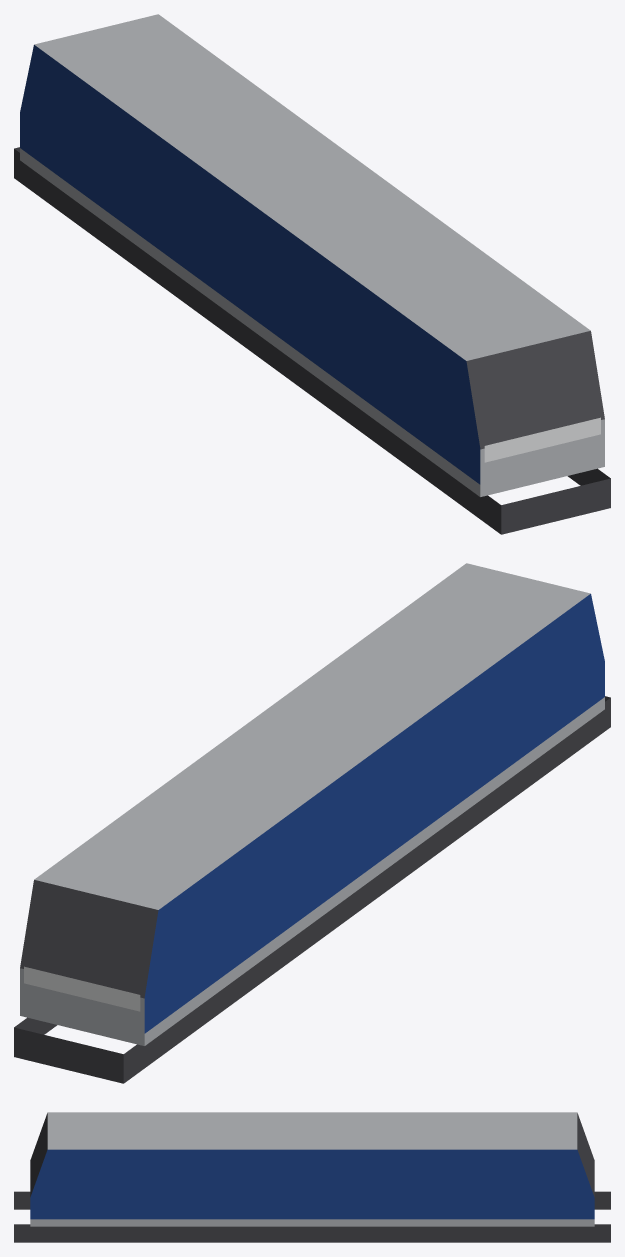
The model's file is 0_far.fbx.
The picture shows the model from 3 angles, top to bottom: view 1: azimuth 30°, elevation 25°; view 2: azimuth 150°, elevation 25°; view 3: azimuth 270°, elevation 25°; orthographic projection. The views are drawn at different scales.
Parts seen in each view (by area): view 1: 22_0_far; view 2: 22_0_far; view 3: 22_0_far.
Part boxes in pixels (bbox=[...]): 22_0_far: bbox=[14, 14, 610, 534]; 22_0_far: bbox=[14, 563, 610, 1083]; 22_0_far: bbox=[14, 1112, 610, 1242].
Bounding box in the file's own units: 2.96 × 3.52 × 20.
